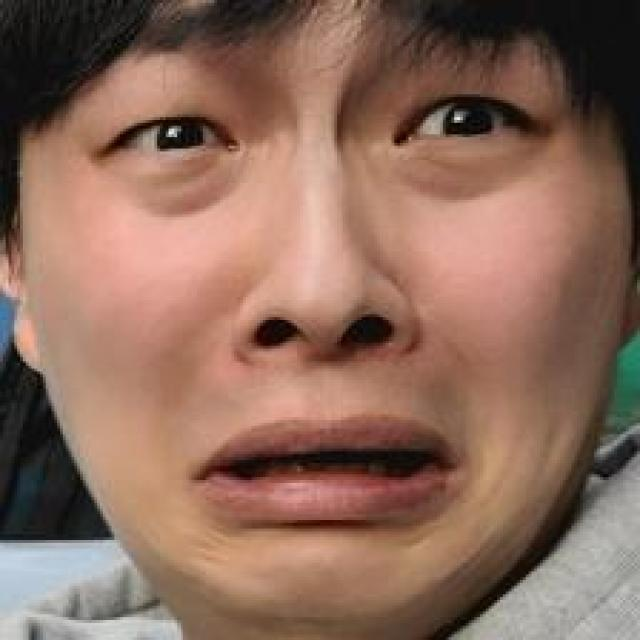fear: (57, 16, 581, 562)
